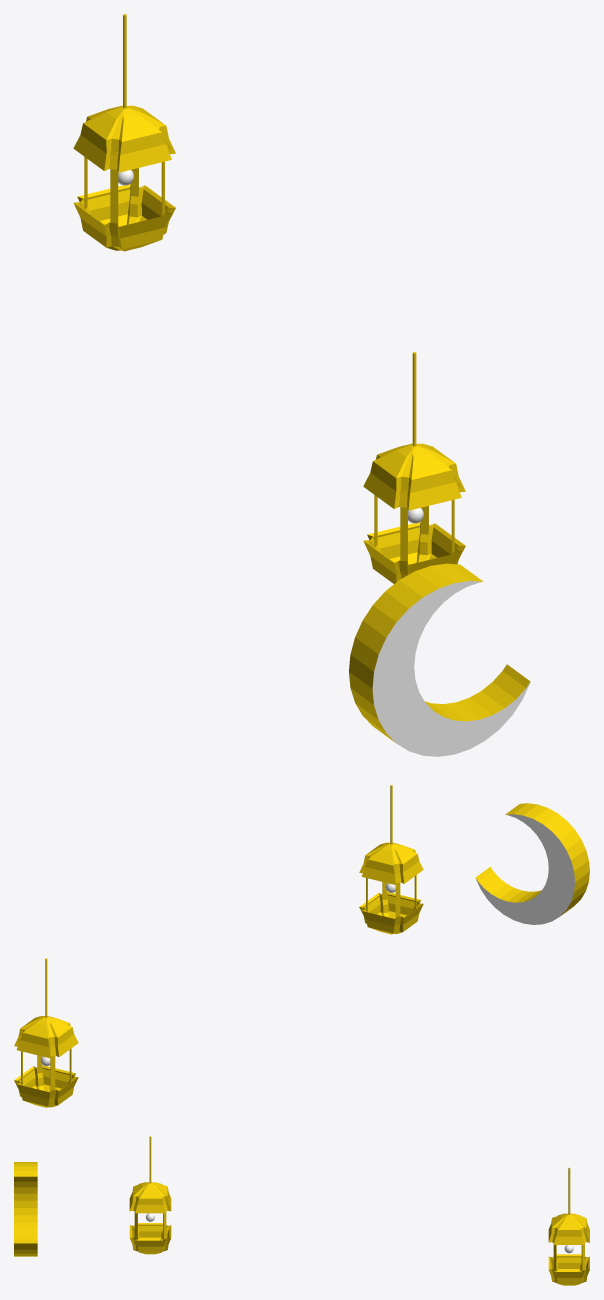
File: ramadha.fbx
3 renders of one model, top to bottom at view 1: azimuth 30°, elevation 25°; view 2: azimuth 150°, elevation 25°; view 3: azimuth 270°, elevation 25°, orthographic. The views are drawn at different scales.
Parts seen in each view (by area): view 1: Cylinder, Cube.001, Cube; view 2: Cylinder, Cube, Cube.001; view 3: Cube, Cube.001, Cylinder.
Part boxes in pixels (x1,y1,x2,y2): Cylinder: (349, 563, 530, 756); Cube.001: (73, 14, 175, 251); Cube: (363, 352, 465, 583); Cylinder: (475, 803, 589, 924); Cube: (359, 785, 423, 934); Cube.001: (14, 958, 78, 1107); Cube: (129, 1136, 171, 1254); Cube.001: (548, 1167, 589, 1285); Cylinder: (14, 1162, 37, 1256).
Bounding box in the file's own units: 838 × 649 × 2435.
